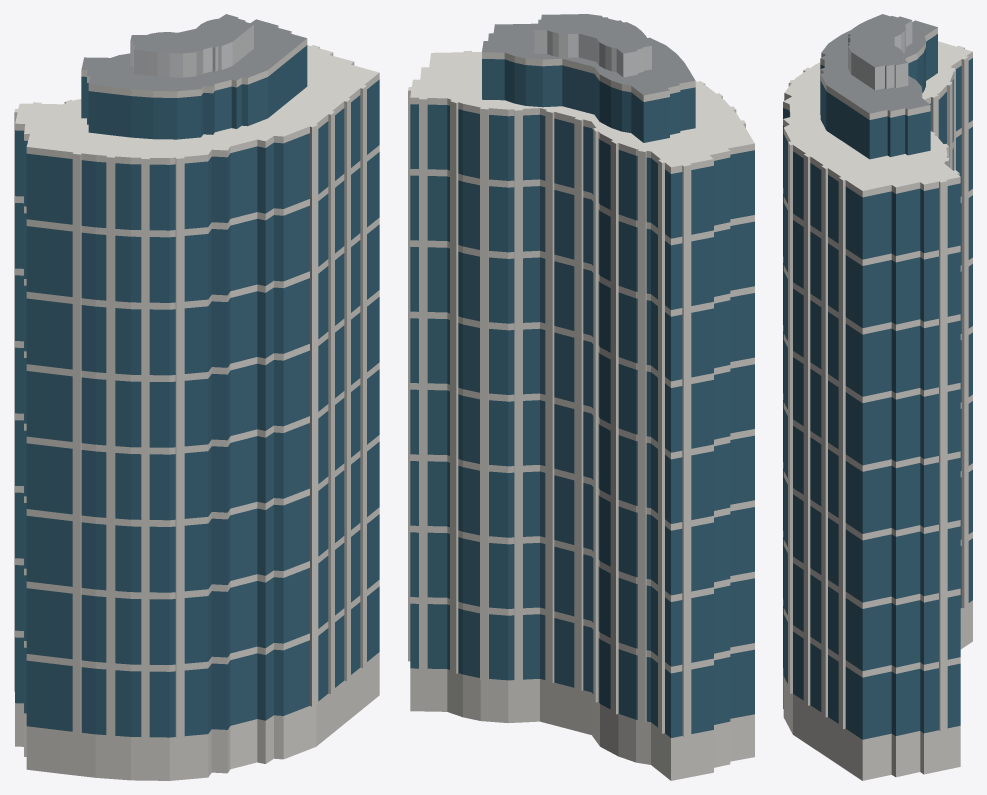
File: allure_las_vegas_tower_w134935559.glb
The picture shows the model from 3 angles, left to right: view 1: azimuth 30°, elevation 25°; view 2: azimuth 150°, elevation 25°; view 3: azimuth 270°, elevation 25°; orthographic projection. The views are drawn at different scales.
Visible parts, largest first — view 1: Tower; view 2: Tower; view 3: Tower.
Part boxes in pixels (x1=…): Tower: x1=14, y1=14, x2=379, y2=780; Tower: x1=408, y1=14, x2=754, y2=780; Tower: x1=783, y1=14, x2=972, y2=780.
Size of the model in its own units: 73.87 by 144 by 37.61.
